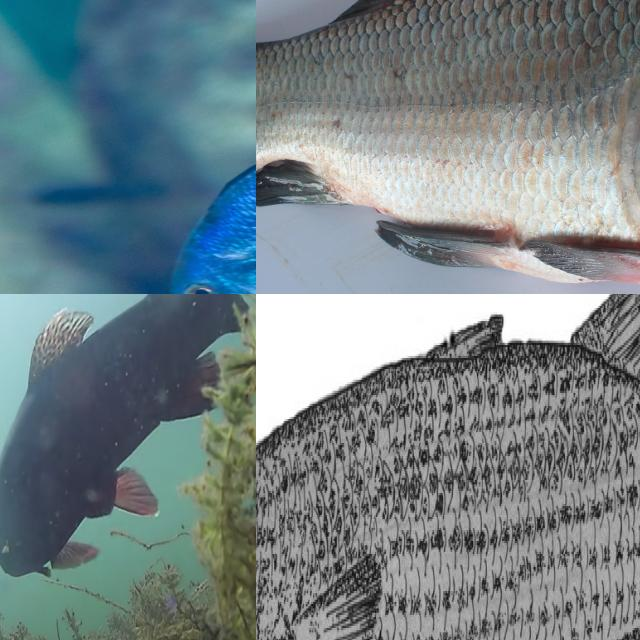fish: (256, 294, 640, 640), (256, 0, 640, 294), (0, 305, 256, 632), (0, 0, 256, 294)
